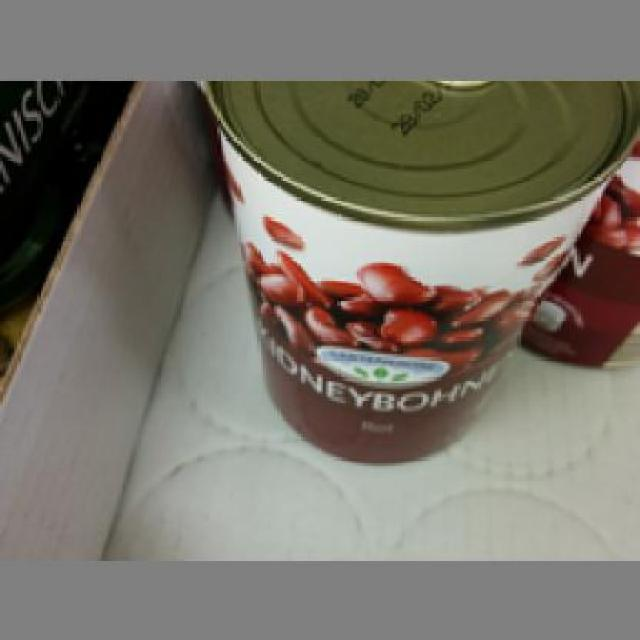Beans: (197, 77, 632, 466)
